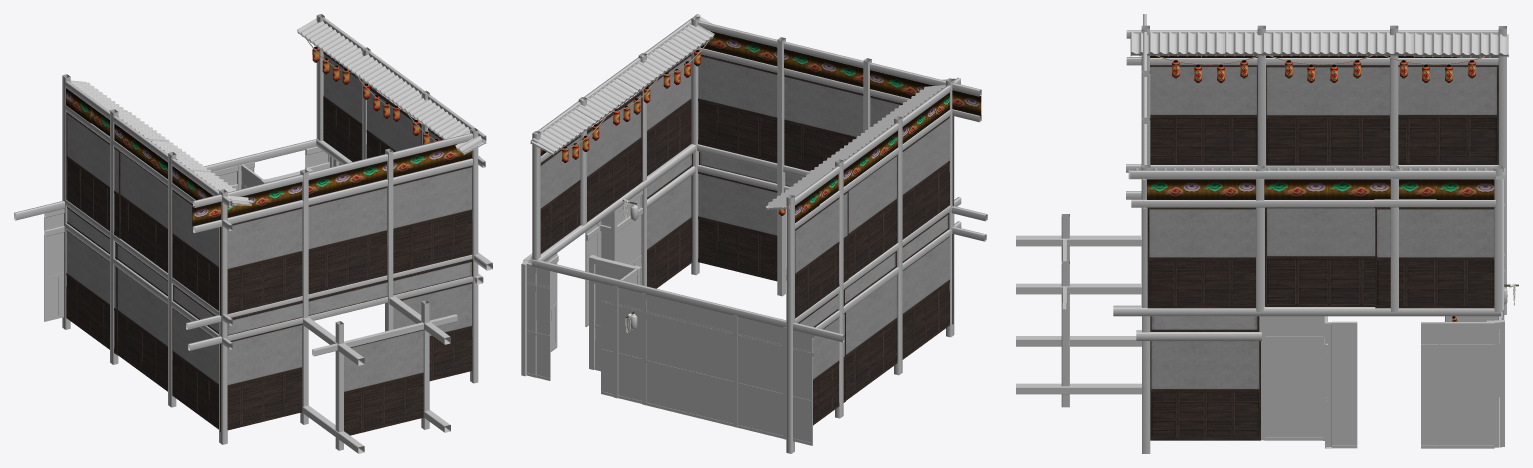
Rendered from 8-1_Building_LinWindows.fbx.
3 renders of one model, left to right at view 1: azimuth 30°, elevation 25°; view 2: azimuth 150°, elevation 25°; view 3: azimuth 270°, elevation 25°, orthographic. The views are drawn at different scales.
Parts seen in each view (by area): view 1: _Combined Mesh [8-2_Building]; view 2: _Combined Mesh [8-2_Building]; view 3: _Combined Mesh [8-2_Building].
Part boxes in pixels (x1=…): _Combined Mesh [8-2_Building]: x1=14, y1=14, x2=492, y2=453; _Combined Mesh [8-2_Building]: x1=521, y1=14, x2=987, y2=453; _Combined Mesh [8-2_Building]: x1=1016, y1=14, x2=1518, y2=453.
Bounding box in the file's own units: 1000 × 754 × 1199.
